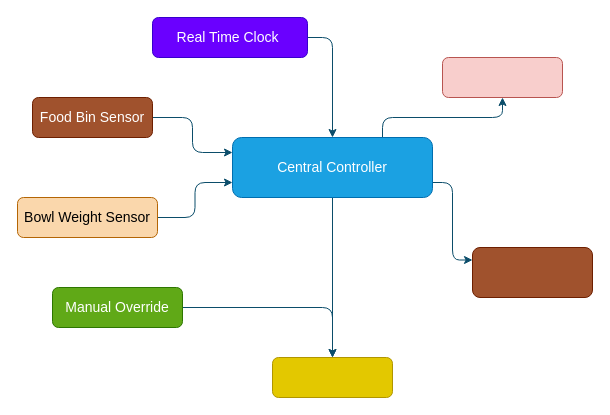
The diagram is 610 pixels wide and 415 high, and some of its shapes have lost their labels. Here are the shapes that lost their labels. From the top down, the centre of each, then its label:
At (502,77): "Servo Motor".
At (532,272): "Alert Module".
At (332,377): "Power".
